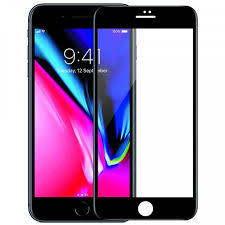iphone: (26, 1, 134, 224)
iphone8: (24, 1, 132, 225)
